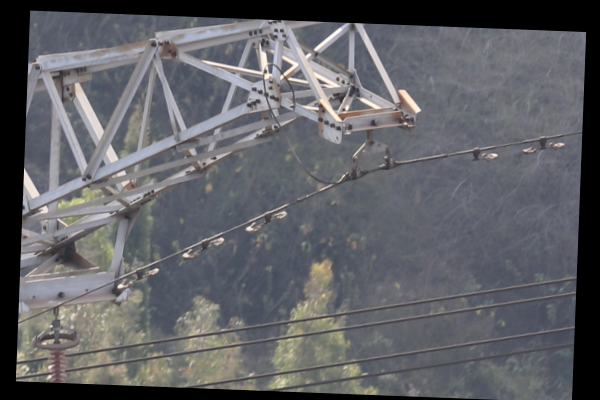damper: (113, 265, 161, 292), (180, 235, 225, 261), (243, 209, 288, 233), (520, 134, 568, 155)
damper_defect: (468, 144, 499, 164)
